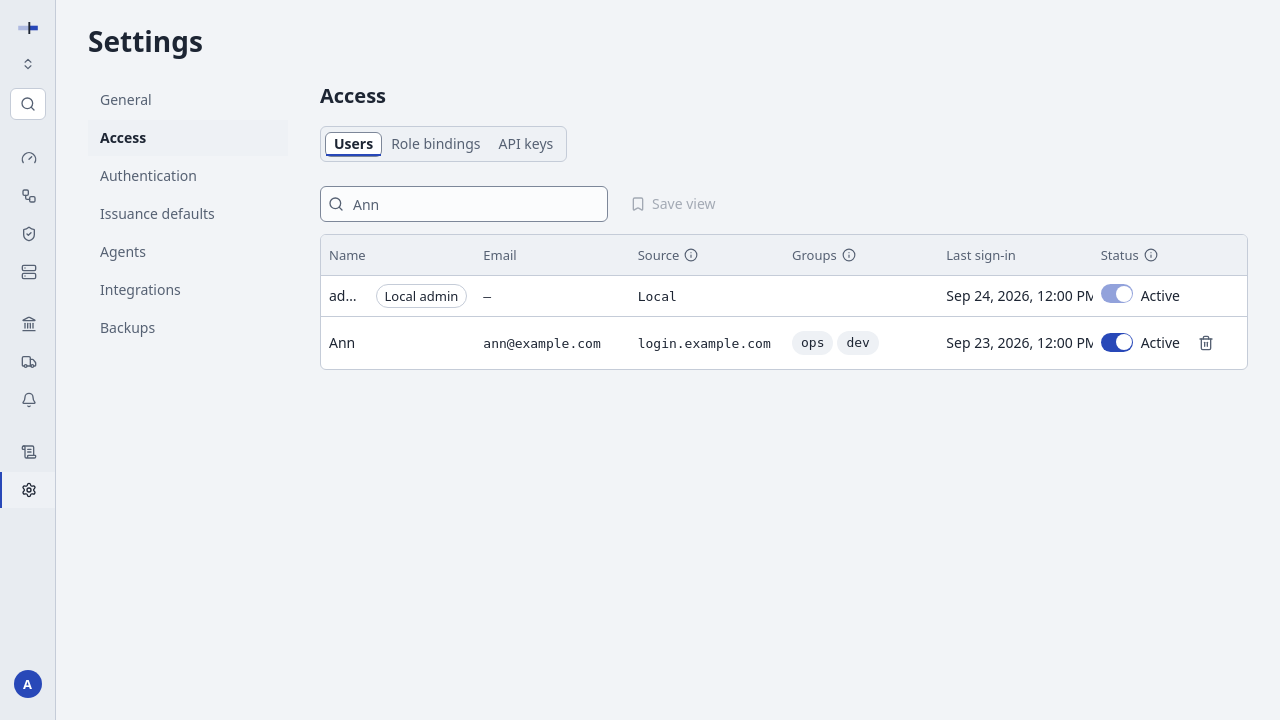
Test: clears the search with a Clear filters button in the filtered-empty state
This screenshot has width=1280, height=720.
Expected: the table named "Users" is shown, [321,235,1247,368]
Step 1. Type "nobody-matches-this" into the field named "Search users" → [464, 204], box [320,186,608,222]
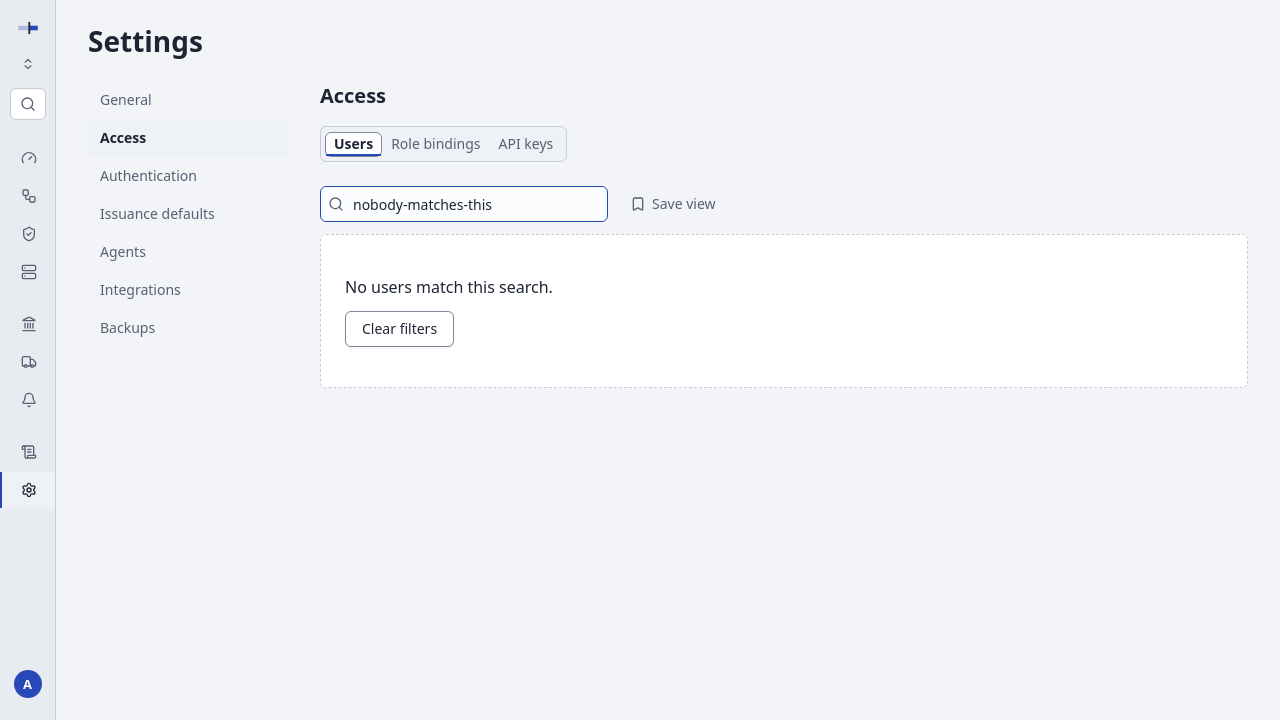
Step 2. Click the button "Clear filters" → [400, 329], box [345,311,454,347]
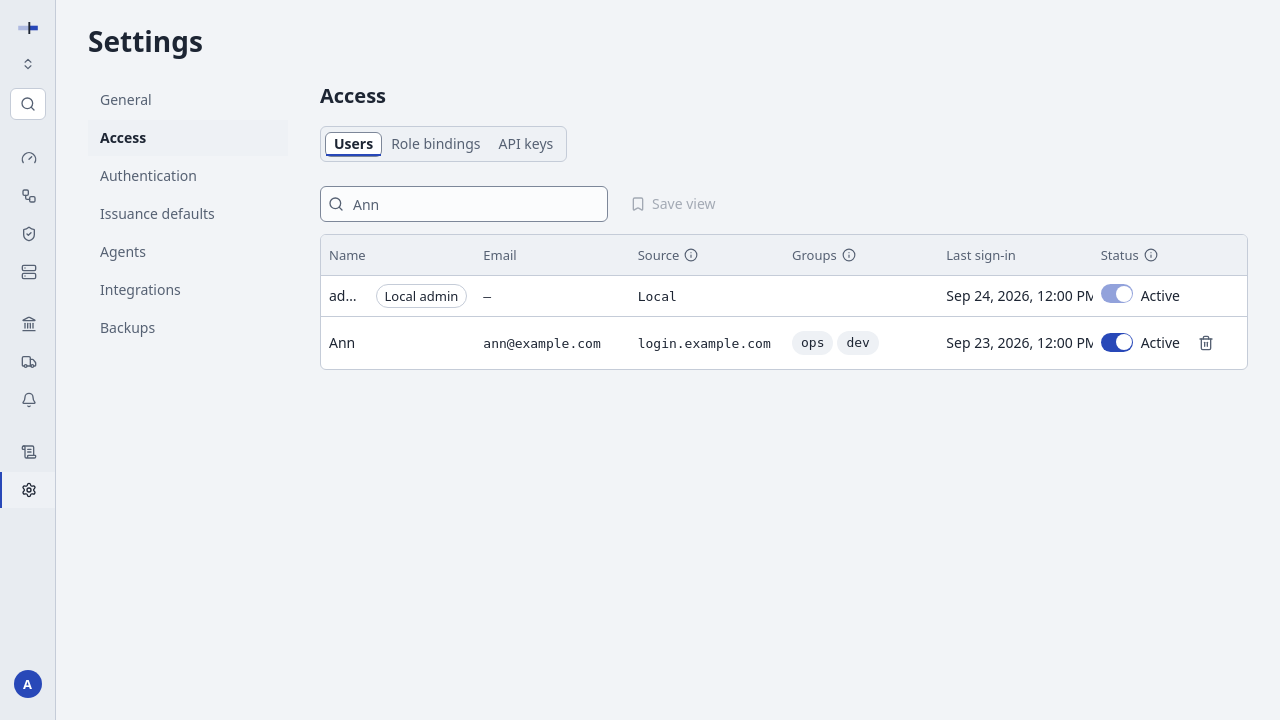
Result: the table named "Users" is shown at [321,235,1247,368]
Result: the field named "Search users" is empty at [320,186,608,222]
